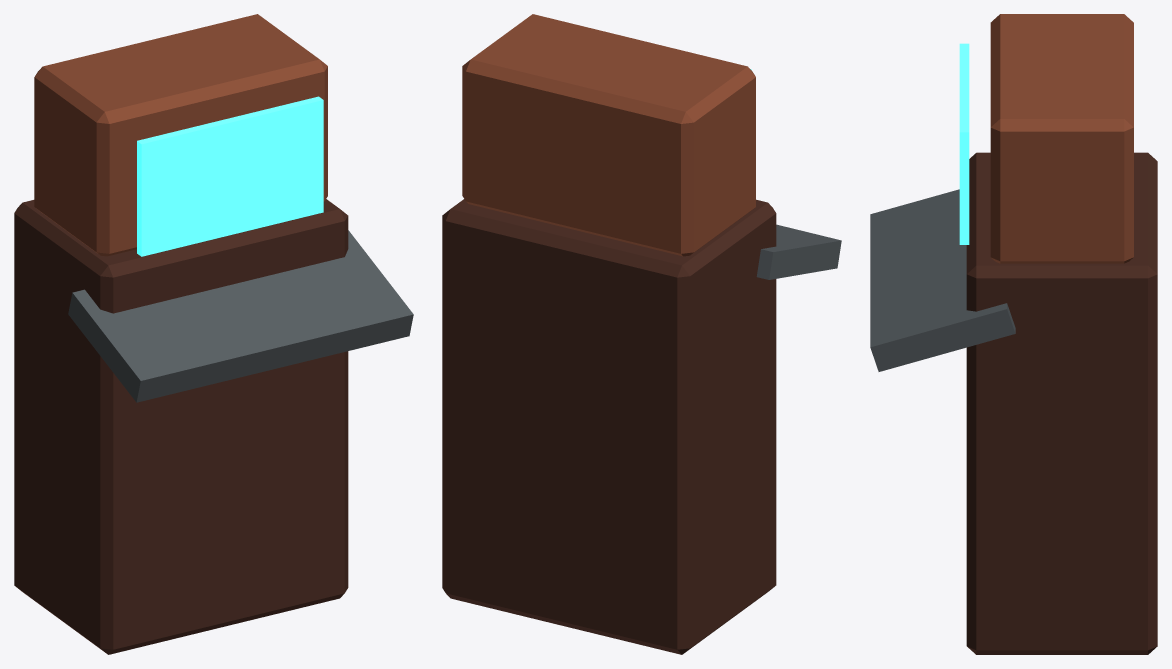
Rendered from deco_terminal.glb.
3 views of the same model, side by side, from view 1: azimuth 30°, elevation 25°; view 2: azimuth 150°, elevation 25°; view 3: azimuth 270°, elevation 25° (orthographic).
Visible parts, largest first — view 1: cabinet, hood, desk, screen_emit; view 2: cabinet, hood, desk; view 3: cabinet, hood, desk, screen_emit.
Part boxes in pixels (x1,y1,x2,y2): cabinet: (14,199,348,654); hood: (34,14,327,256); desk: (68,230,413,402); screen_emit: (137,96,323,256); cabinet: (442,199,776,654); hood: (462,14,755,256); desk: (756,224,841,279); cabinet: (966,152,1157,654); hood: (990,14,1133,263); desk: (870,189,1015,371); screen_emit: (959,43,969,244).
Bounding box in the file's own units: 0.66 × 1.23 × 0.6022.
